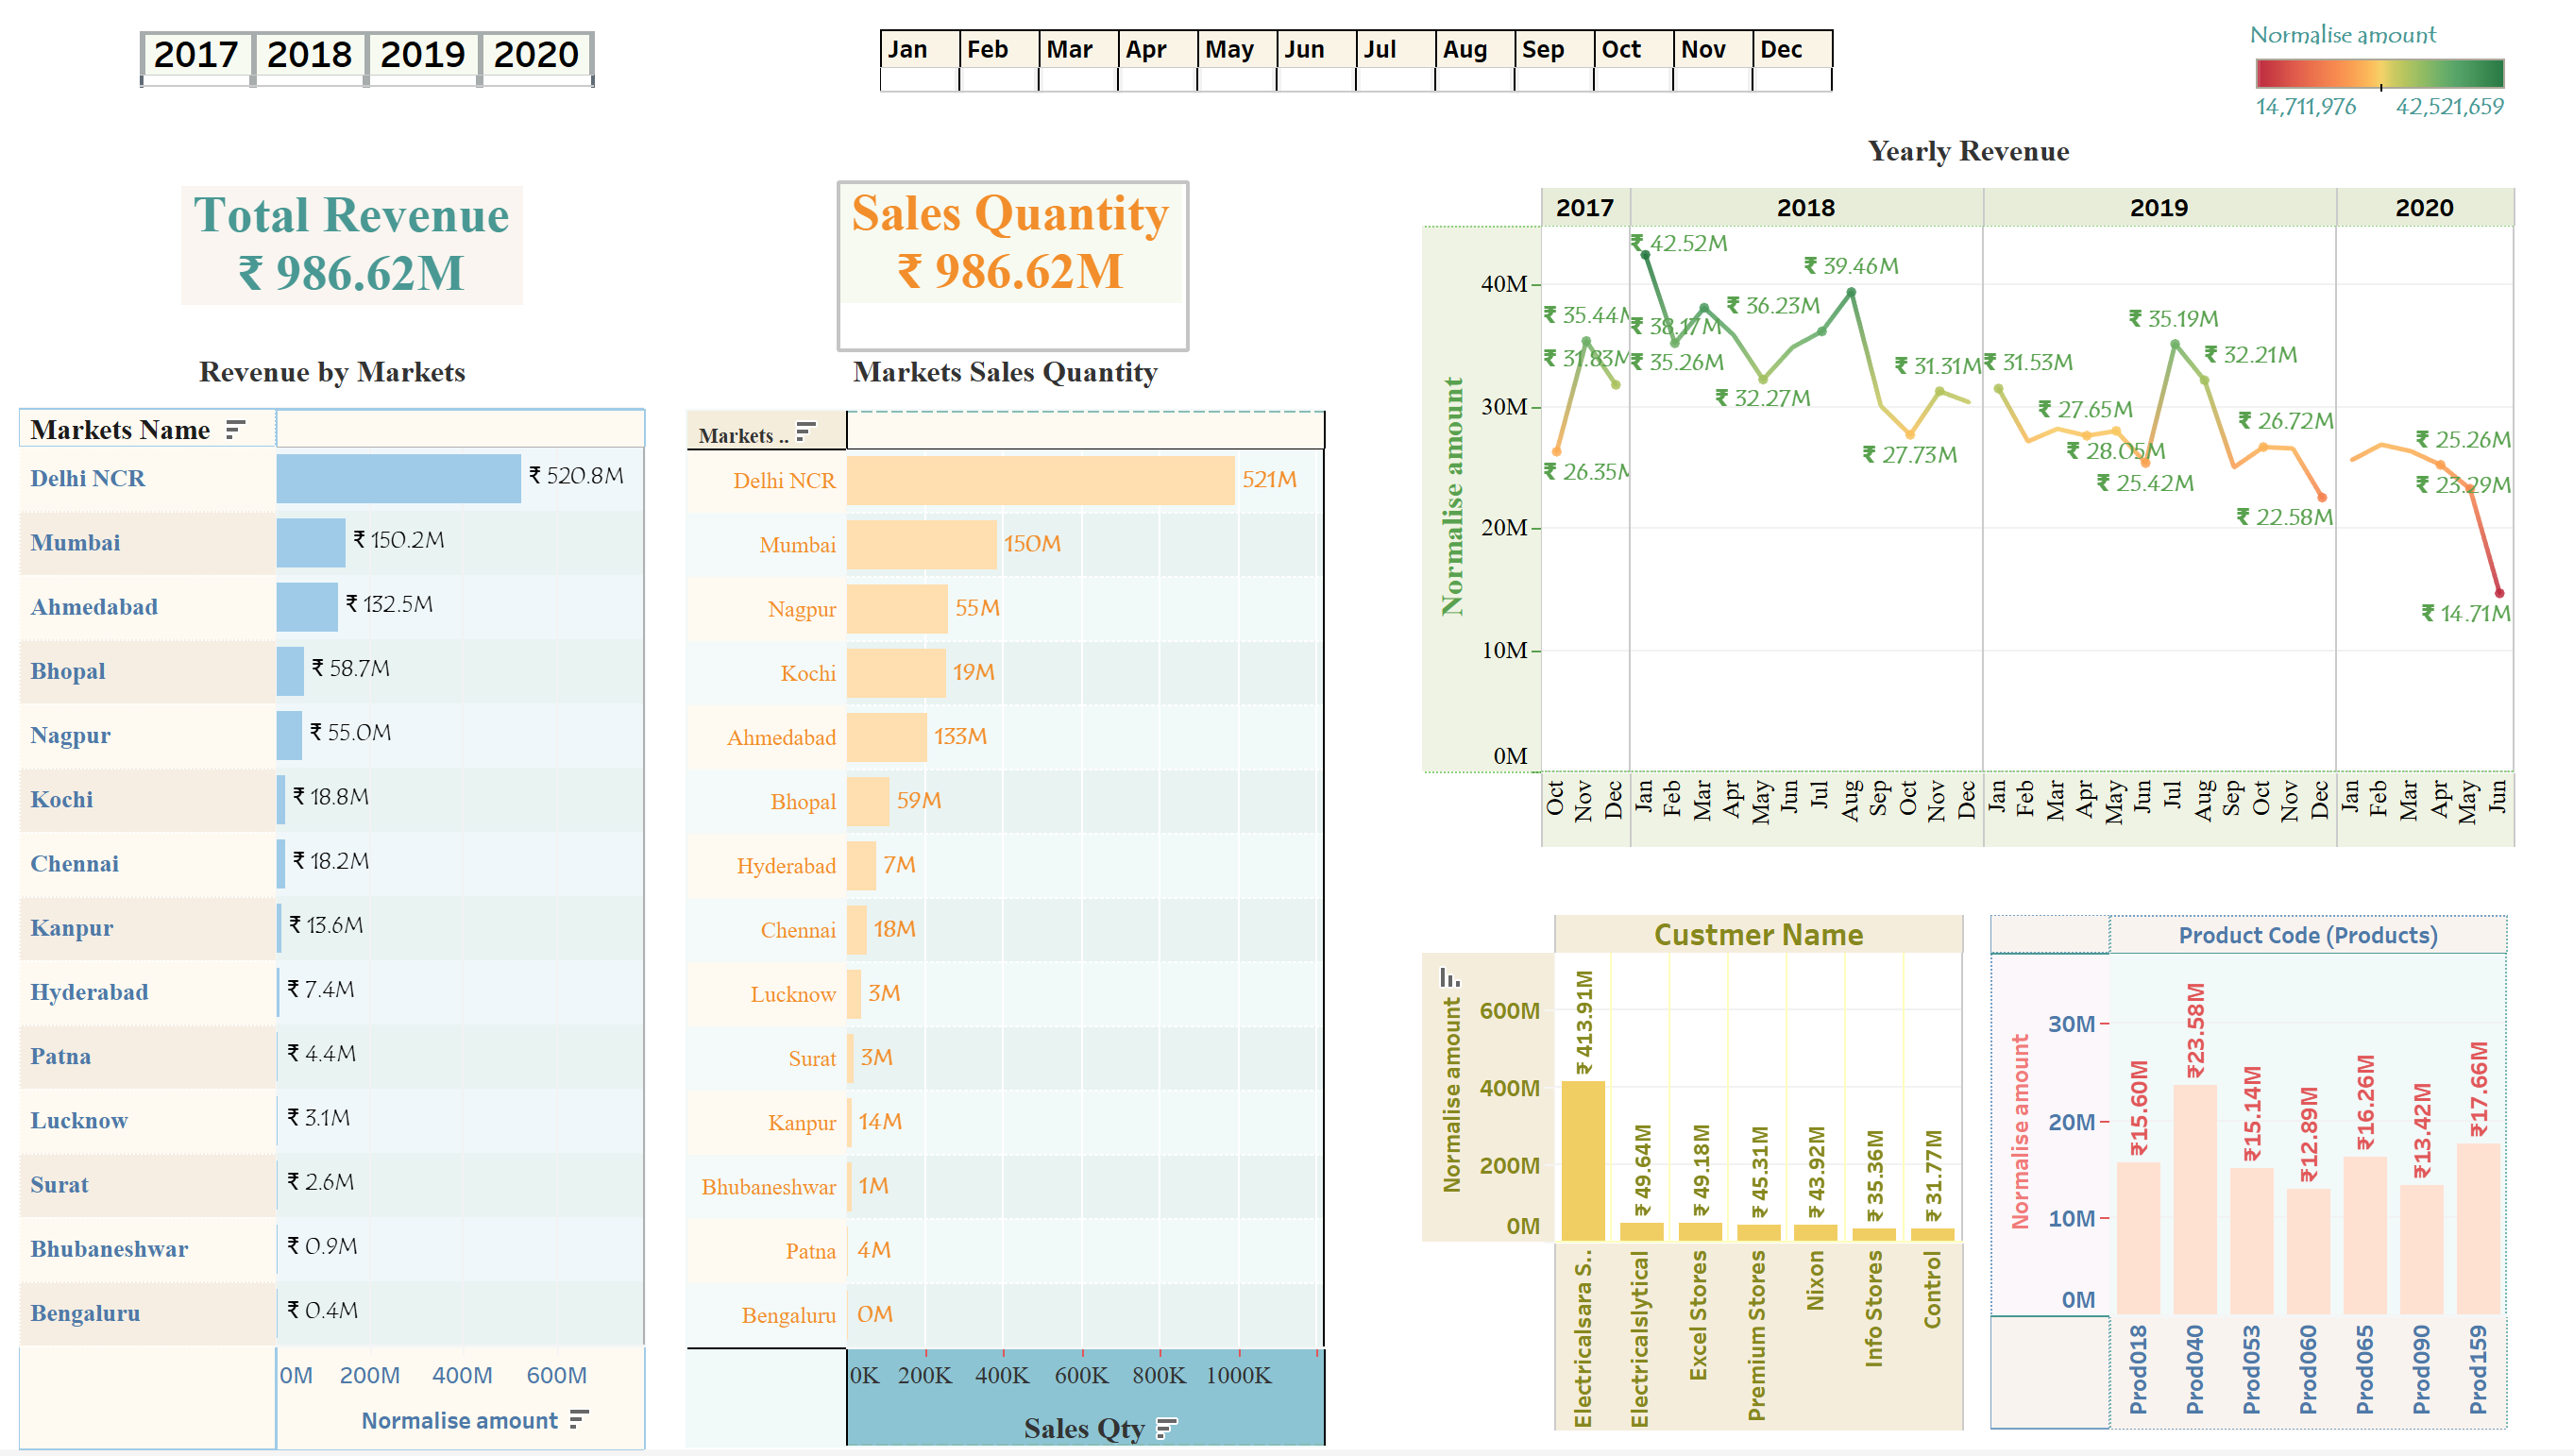

The dashboard page shown, as its layout file describes it:
{"tool":"tableau","page":{"name":"Dashboard 1","canvas":[1366,768],"ordinal":0},"visuals":[{"type":"legend","title":"Revenue by Year","param":"[federated.1m3q7bs19k2nl615pqnzg0yqnaou].[sum:Calculation_2658531206819078144:qk","box":[1191,11,140,73]},{"type":"worksheet","title":"Year","mark":"Automatic","cols":["cy_date"],"box":[73,16,271,46]},{"type":"worksheet","title":"Month","mark":"Automatic","cols":["cy_date"],"box":[466,16,522,37]},{"type":"worksheet","title":"Revenue by Year","mark":"Automatic","rows":["Calculation_2658531206819078144"],"cols":["cy_date","cy_date"],"box":[753,67,579,383]},{"type":"worksheet","title":"Sales quantity","mark":"Automatic","box":[445,98,183,87]},{"type":"worksheet","title":"Revenue","mark":"Automatic","box":[96,99,189,81]},{"type":"worksheet","title":"Marketwise sales","mark":"Automatic","rows":["markets_name"],"cols":["Calculation_2658531206819078144"],"box":[10,184,332,586]},{"type":"worksheet","title":"sales qty by market","mark":"Automatic","rows":["markets_name"],"cols":["sales_qty"],"box":[363,184,342,585]},{"type":"worksheet","title":"Top 5 customers","mark":"Automatic","rows":["Calculation_2658531206819078144"],"cols":["custmer_name"],"box":[753,485,287,274]},{"type":"worksheet","title":"Product Sales","mark":"Automatic","rows":["Calculation_2658531206819078144"],"cols":["product_code (products)"],"box":[1054,485,282,273]}]}

Visuals, with their boxes in screenshot pixels (x1, y1, x2, y2), scaled from the page's 1366x768 canvas onto the 2574x1456 screenshot:
"Revenue by Year" legend: left=2244, top=21, right=2508, bottom=160
"Year" worksheet: left=138, top=30, right=648, bottom=117
"Month" worksheet: left=878, top=30, right=1862, bottom=100
"Revenue by Year" worksheet: left=1419, top=127, right=2510, bottom=854
"Sales quantity" worksheet: left=838, top=186, right=1183, bottom=350
"Revenue" worksheet: left=181, top=188, right=537, bottom=341
"Marketwise sales" worksheet: left=19, top=348, right=644, bottom=1455
"sales qty by market" worksheet: left=684, top=348, right=1329, bottom=1455
"Top 5 customers" worksheet: left=1419, top=920, right=1959, bottom=1439
"Product Sales" worksheet: left=1986, top=920, right=2517, bottom=1437
